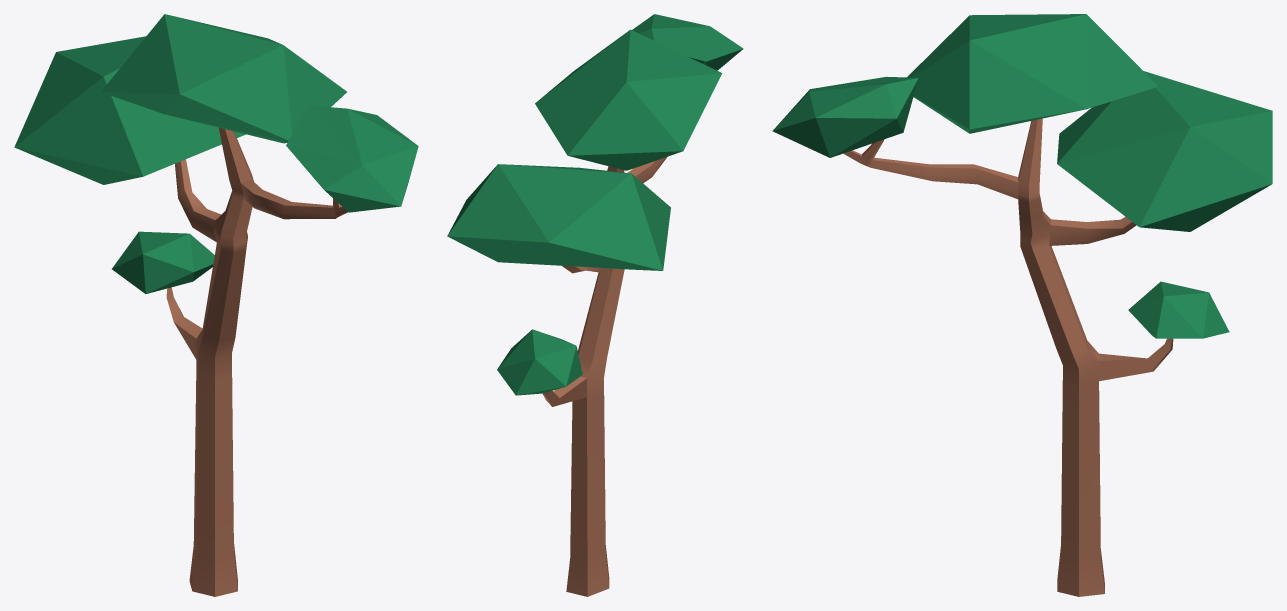
File: jungle_tree.obj
The picture shows the model from 3 angles, left to right: view 1: azimuth 30°, elevation 25°; view 2: azimuth 150°, elevation 25°; view 3: azimuth 270°, elevation 25°; orthographic projection. The views are drawn at different scales.
Parts seen in each view (by area): view 1: pCylinder4 jungle_tree, jungle_tree pPlatonic3, jungle_tree pPlatonic4, jungle_tree pPlatonic5, jungle_tree pPlatonic2; view 2: jungle_tree pPlatonic4, jungle_tree pPlatonic3, pCylinder4 jungle_tree, jungle_tree pPlatonic2, jungle_tree pPlatonic5; view 3: jungle_tree pPlatonic4, pCylinder4 jungle_tree, jungle_tree pPlatonic3, jungle_tree pPlatonic5, jungle_tree pPlatonic2.
Boxes of the visible parts, x1=… form: pCylinder4 jungle_tree: x1=166, y1=127, x2=347, y2=596; jungle_tree pPlatonic3: x1=101, y1=14, x2=346, y2=143; jungle_tree pPlatonic4: x1=14, y1=36, x2=245, y2=184; jungle_tree pPlatonic5: x1=286, y1=105, x2=418, y2=212; jungle_tree pPlatonic2: x1=112, y1=231, x2=214, y2=293; jungle_tree pPlatonic4: x1=447, y1=164, x2=670, y2=270; jungle_tree pPlatonic3: x1=535, y1=29, x2=722, y2=170; pCylinder4 jungle_tree: x1=543, y1=157, x2=666, y2=596; jungle_tree pPlatonic2: x1=497, y1=329, x2=582, y2=395; jungle_tree pPlatonic5: x1=632, y1=14, x2=743, y2=70; jungle_tree pPlatonic4: x1=1057, y1=71, x2=1272, y2=231; pCylinder4 jungle_tree: x1=843, y1=118, x2=1173, y2=596; jungle_tree pPlatonic3: x1=907, y1=14, x2=1158, y2=133; jungle_tree pPlatonic5: x1=772, y1=76, x2=918, y2=157; jungle_tree pPlatonic2: x1=1128, y1=281, x2=1229, y2=338.
Size of the model in its own units: 3.4 by 7.61 by 6.25.
